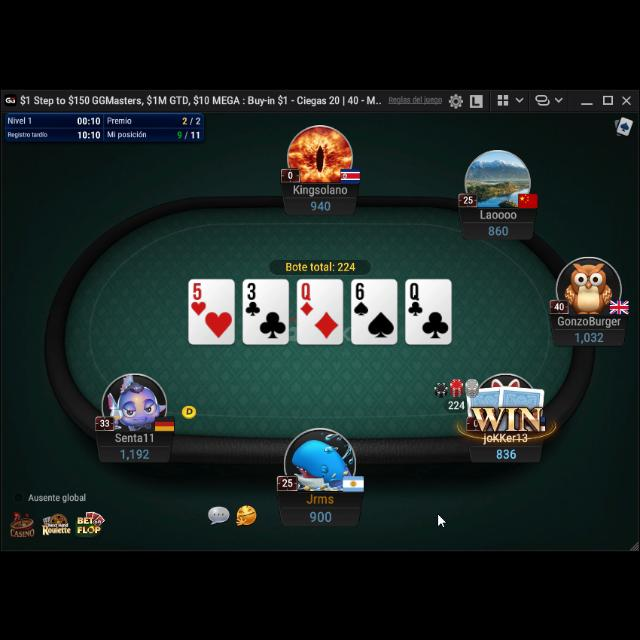3c: (244, 281, 262, 319)
5h: (190, 280, 210, 316)
6s: (352, 281, 372, 319)
Qc: (407, 280, 425, 316)
Qd: (300, 282, 316, 318)
bet_text: (446, 396, 466, 409)
dealer: (180, 403, 198, 421)
pot_text: (285, 260, 357, 274)
stack_text: (120, 445, 150, 461), (574, 330, 606, 344), (307, 508, 333, 524), (308, 198, 332, 212), (486, 224, 512, 236), (496, 447, 520, 459)
